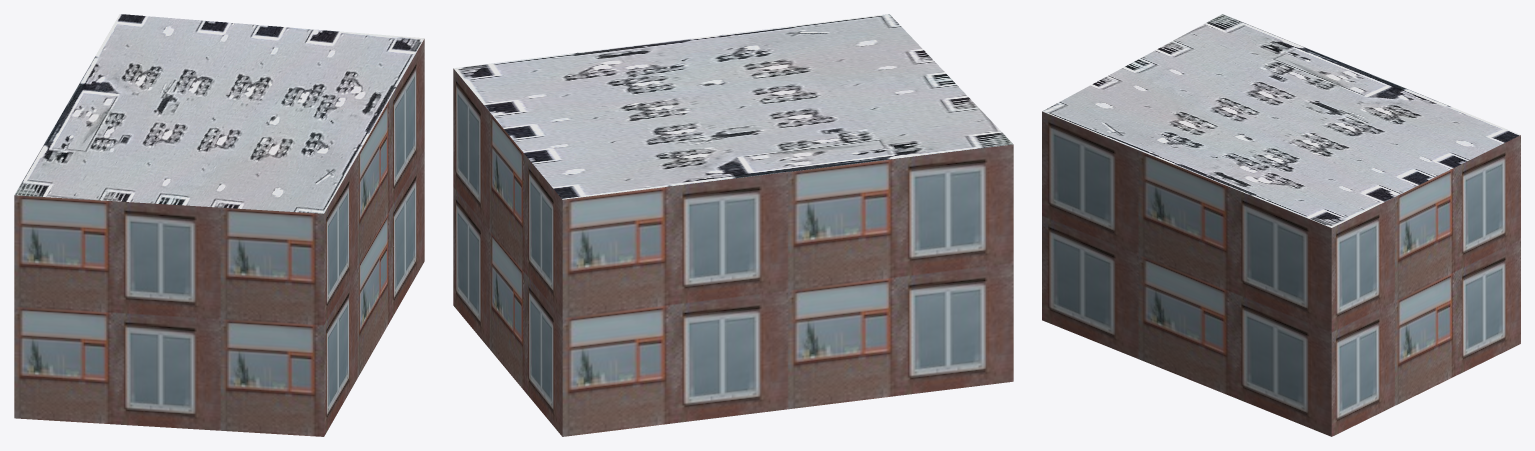
File: ResTex__1458.fbx
3 renders of one model, left to right at view 1: azimuth 30°, elevation 25°; view 2: azimuth 150°, elevation 25°; view 3: azimuth 270°, elevation 25°, orthographic. The views are drawn at different scales.
Parts seen in each view (by area): view 1: CityEngineMaterial_19_m, CityEngineMaterial_15_m; view 2: CityEngineMaterial_19_m, CityEngineMaterial_15_m; view 3: CityEngineMaterial_19_m, CityEngineMaterial_15_m.
Part boxes in pixels (<box>): CityEngineMaterial_19_m: <box>14,39,424,436</box>; CityEngineMaterial_15_m: <box>14,14,424,213</box>; CityEngineMaterial_19_m: <box>453,68,1013,436</box>; CityEngineMaterial_15_m: <box>453,14,1013,199</box>; CityEngineMaterial_19_m: <box>1042,111,1520,436</box>; CityEngineMaterial_15_m: <box>1042,14,1520,227</box>.
Bounding box in the file's own units: 13.19 × 6 × 12.47.
2 materials, 2 textured.
